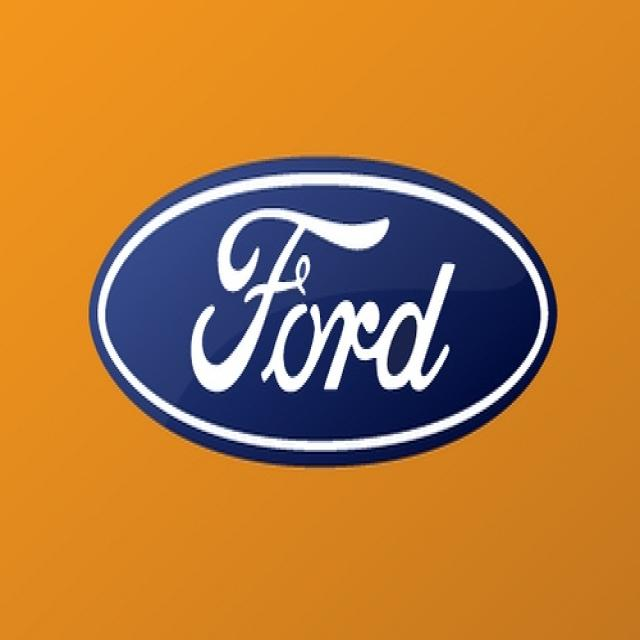ford: (78, 138, 560, 482)
